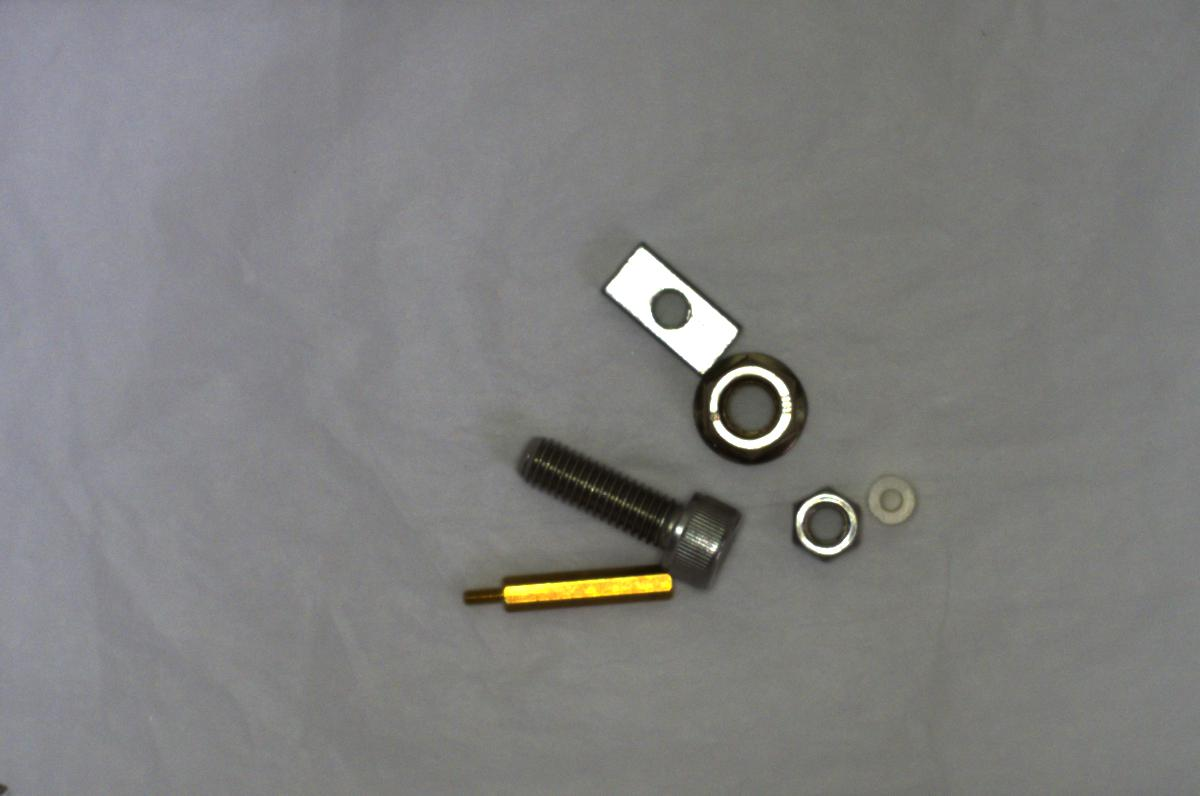Flange nut: (684, 352, 819, 468)
Hexagon nut: (778, 480, 866, 566)
Hexagon pillar: (457, 554, 680, 622)
Hexagon screw: (508, 425, 742, 592)
Plastic cushion pillar: (860, 468, 924, 529)
Rectangular nut: (602, 238, 745, 375)
